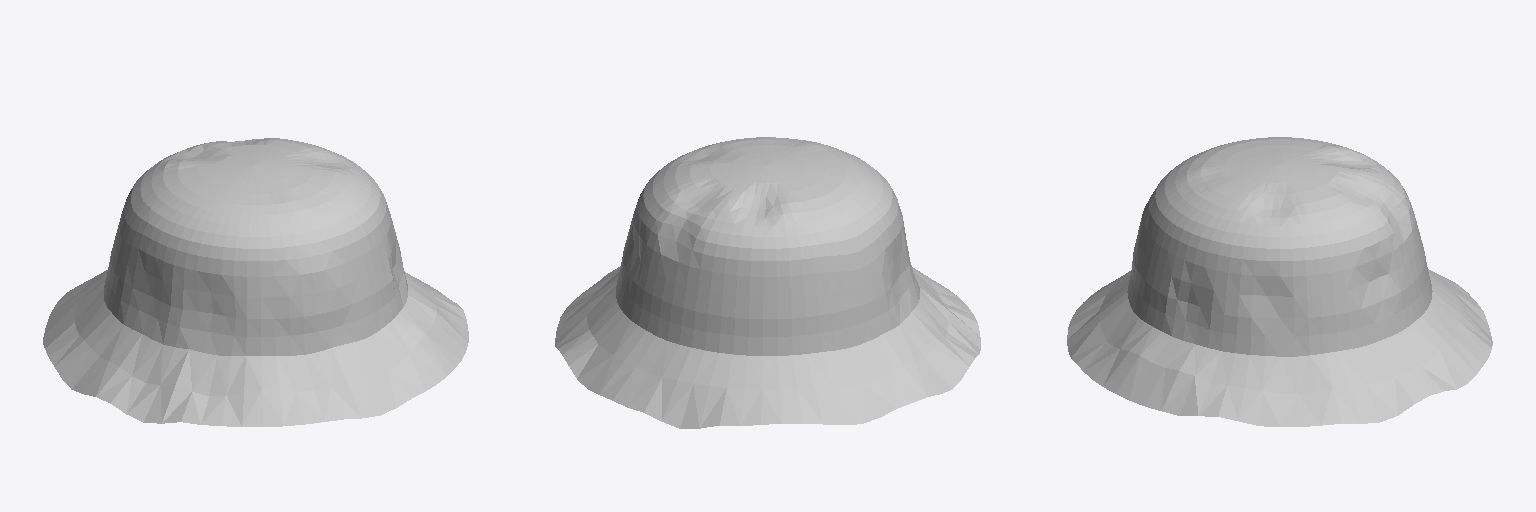
Rendered from hat.obj.
The picture shows the model from 3 angles: view 1: azimuth 30°, elevation 25°; view 2: azimuth 150°, elevation 25°; view 3: azimuth 270°, elevation 25°; orthographic projection.
Visible parts, largest first — view 1: Sphere_Material_0; view 2: Sphere_Material_0; view 3: Sphere_Material_0.
Part boxes in pixels (x1,y1,x2,y2): Sphere_Material_0: (43, 138, 468, 426); Sphere_Material_0: (555, 137, 980, 428); Sphere_Material_0: (1067, 137, 1492, 426).
Bounding box in the file's own units: 26.75 × 12.62 × 26.75.